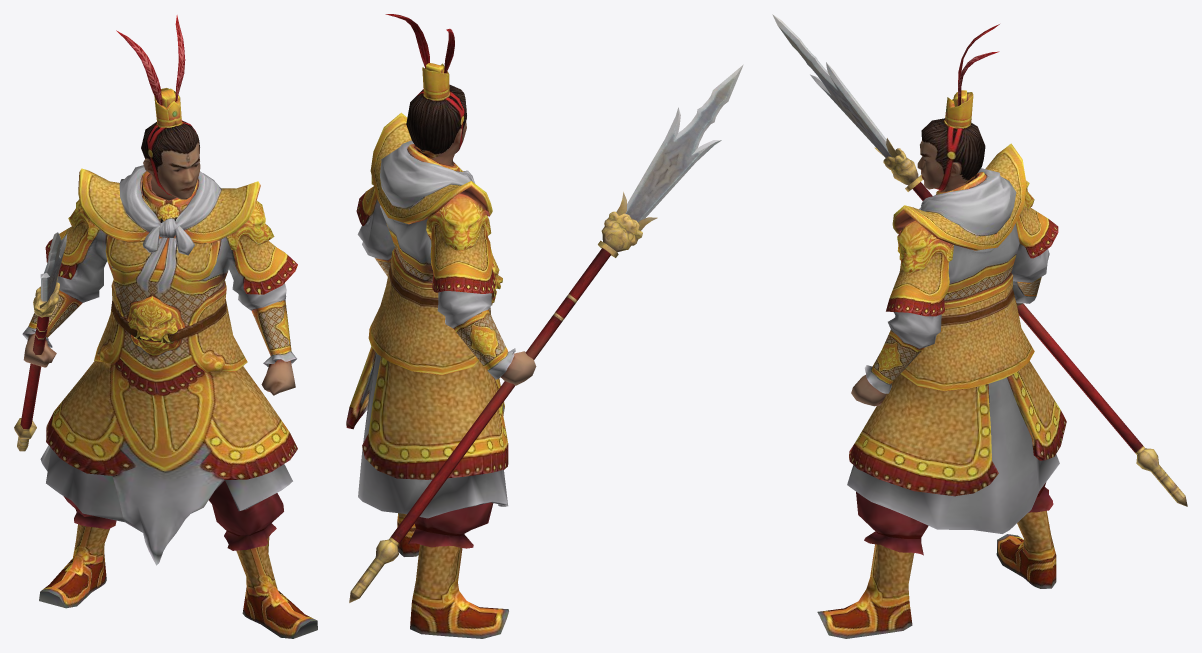
Rendered from 119-yangjian.glb.
3 renders of one model, left to right at view 1: azimuth 30°, elevation 25°; view 2: azimuth 150°, elevation 25°; view 3: azimuth 270°, elevation 25°, orthographic. The views are drawn at different scales.
Size of the model in its own units: 1.61 by 2.87 by 1.93.
2 materials, 2 textured.
